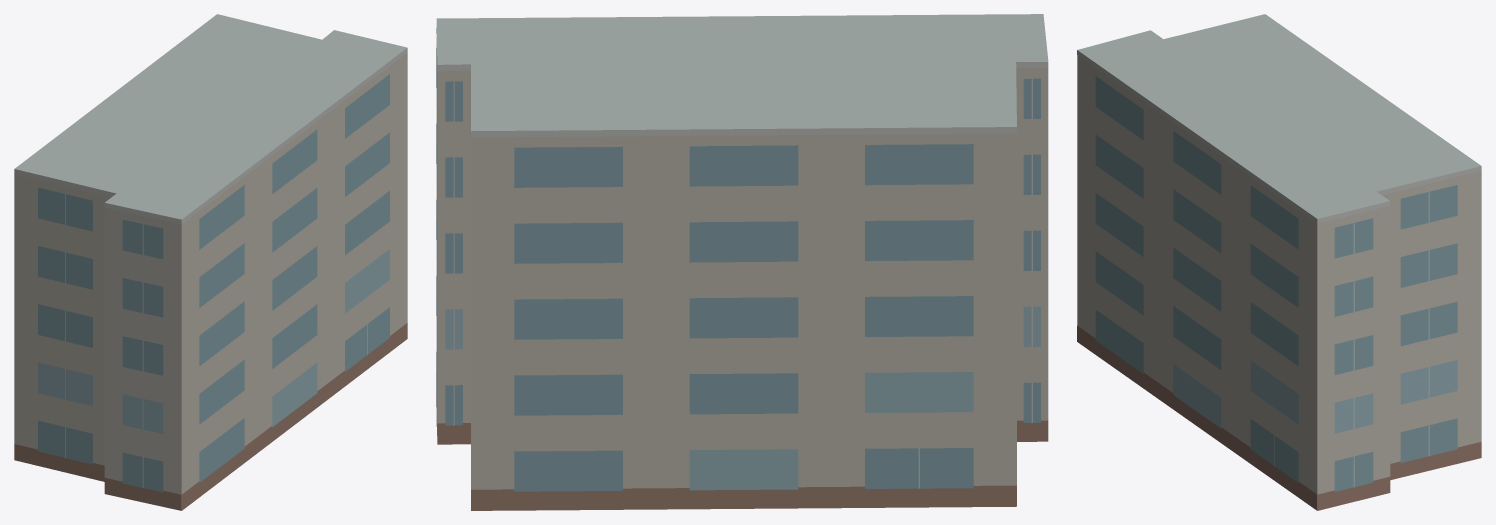
The model's file is survey-upis-33044255.glb.
3 renders of one model, left to right at view 1: azimuth 30°, elevation 25°; view 2: azimuth 150°, elevation 25°; view 3: azimuth 270°, elevation 25°, orthographic. The views are drawn at different scales.
Visible parts, largest first — view 1: survey-upis-33044255.tmp; view 2: survey-upis-33044255.tmp; view 3: survey-upis-33044255.tmp.
Boxes of the visible parts, x1,y1,x2,y2 form: survey-upis-33044255.tmp: (14,14,407,510); survey-upis-33044255.tmp: (436,14,1048,510); survey-upis-33044255.tmp: (1077,14,1481,510).
Size of the model in its own units: 21.93 by 14.55 by 18.28.
